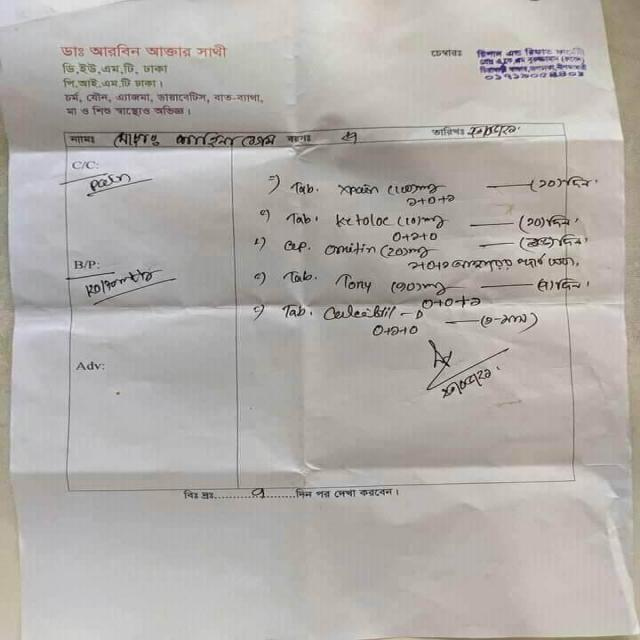Calcifil-D: (315, 302, 427, 325)
Ketolac: (323, 209, 395, 232)
Omitin: (319, 242, 380, 260)
Tory: (333, 272, 378, 297)
Xpain: (333, 183, 385, 197)
